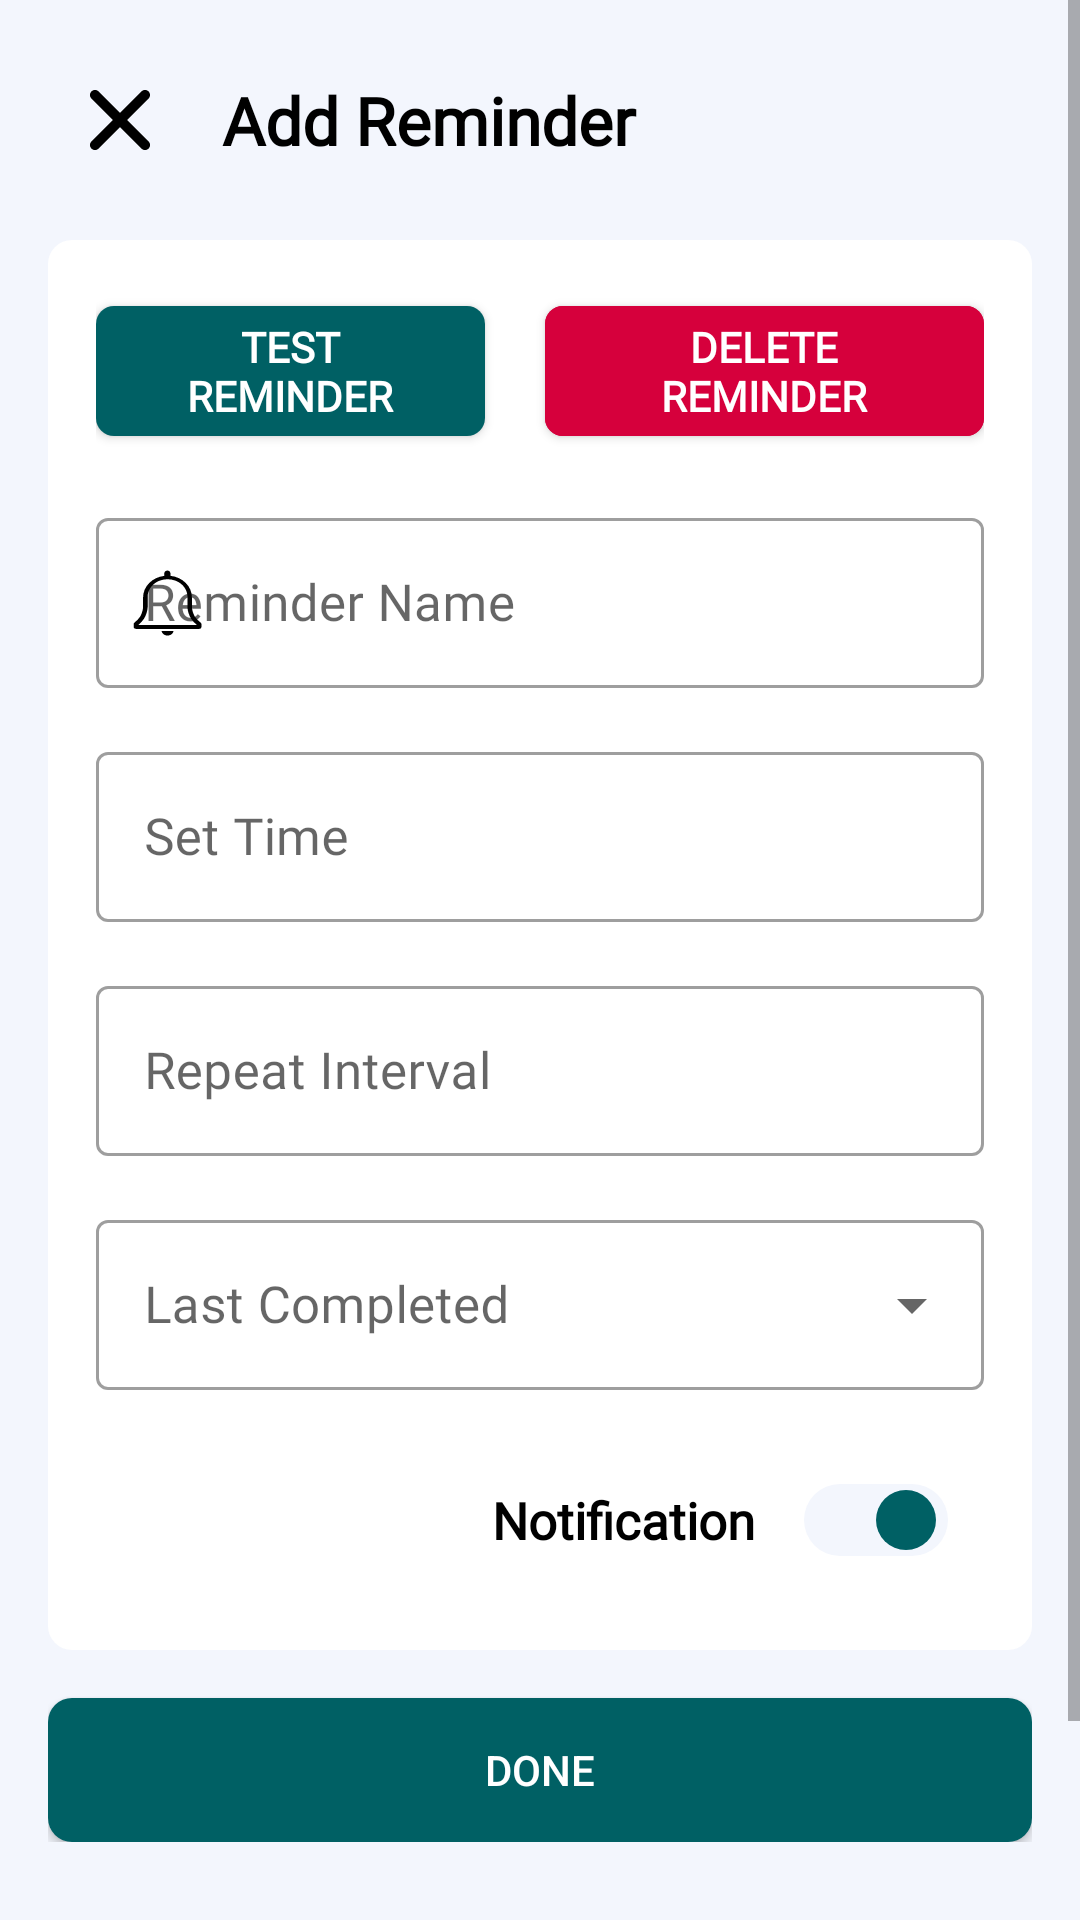

Icons on this 1080px x 1920px Android screen, each with the point to tap as [x,y]:
Close activity: [120,120]
